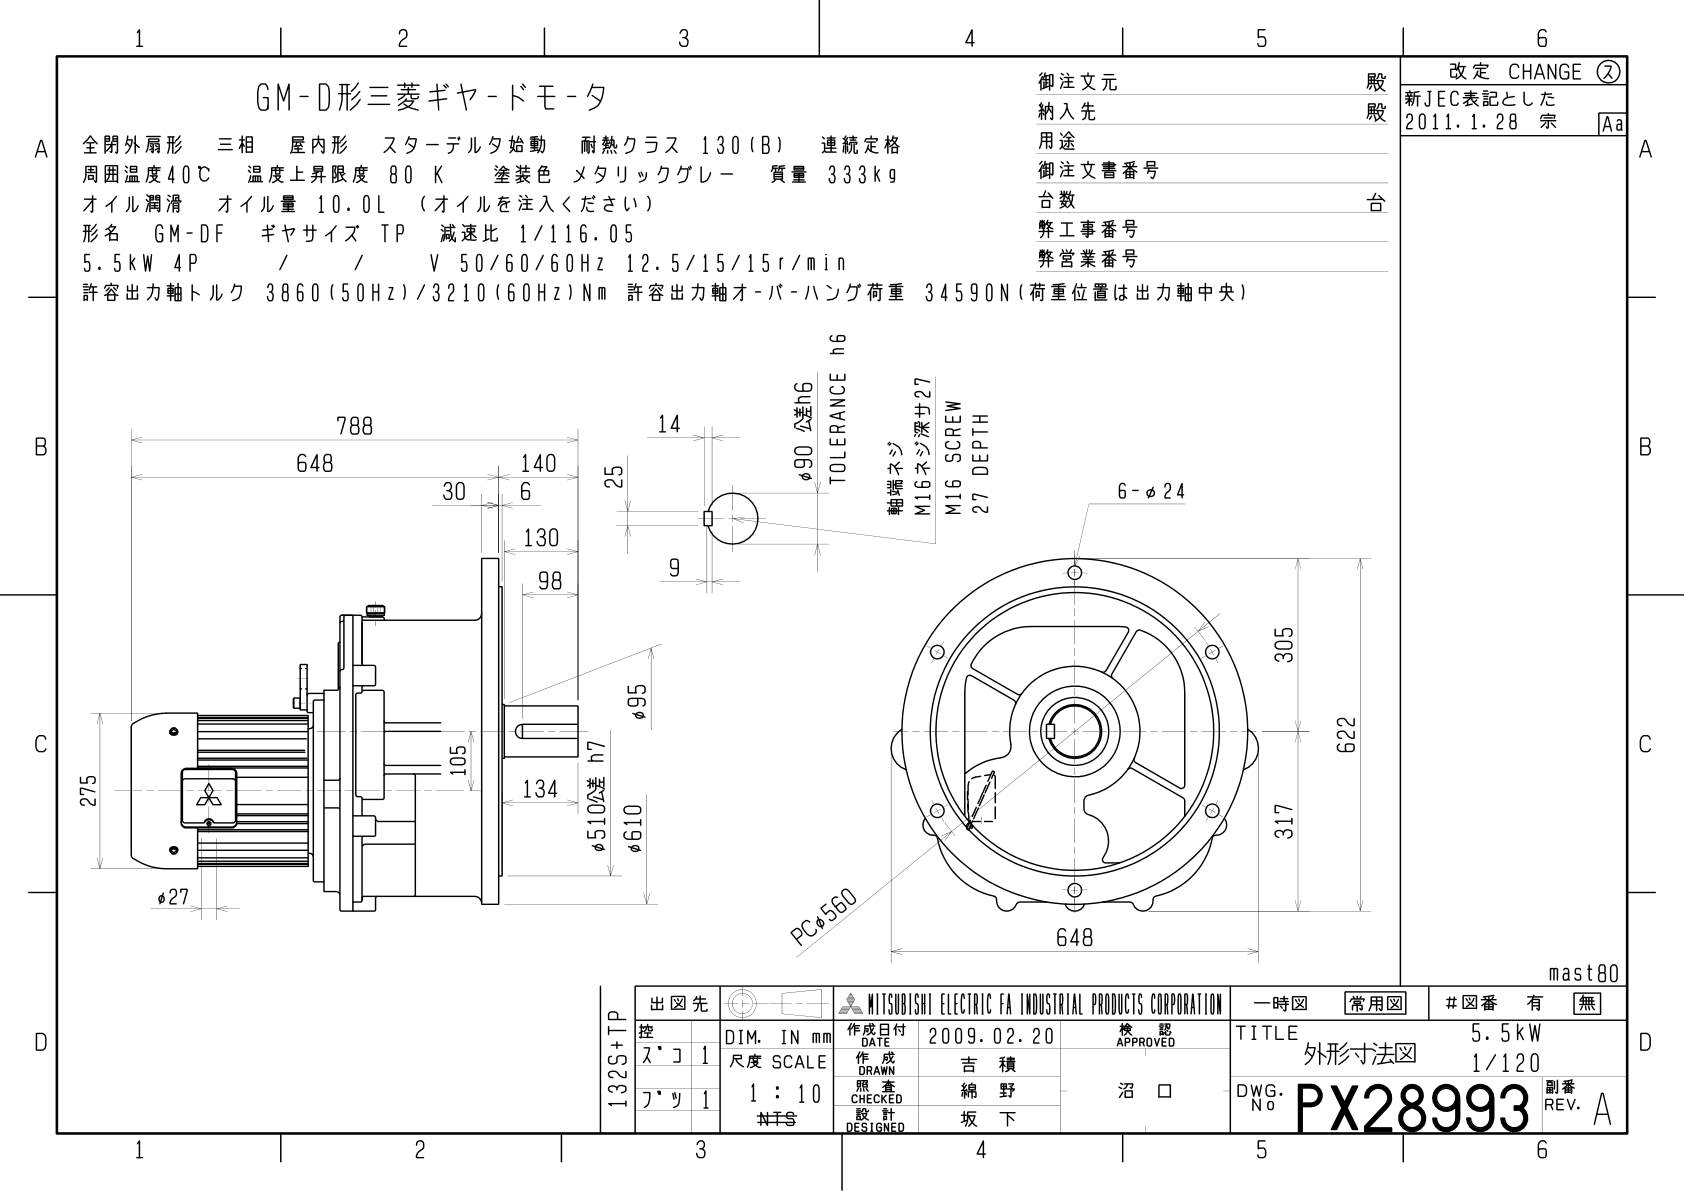GM_D_屋内＿三相_フランジ: (1, 1, 1672, 1181)
